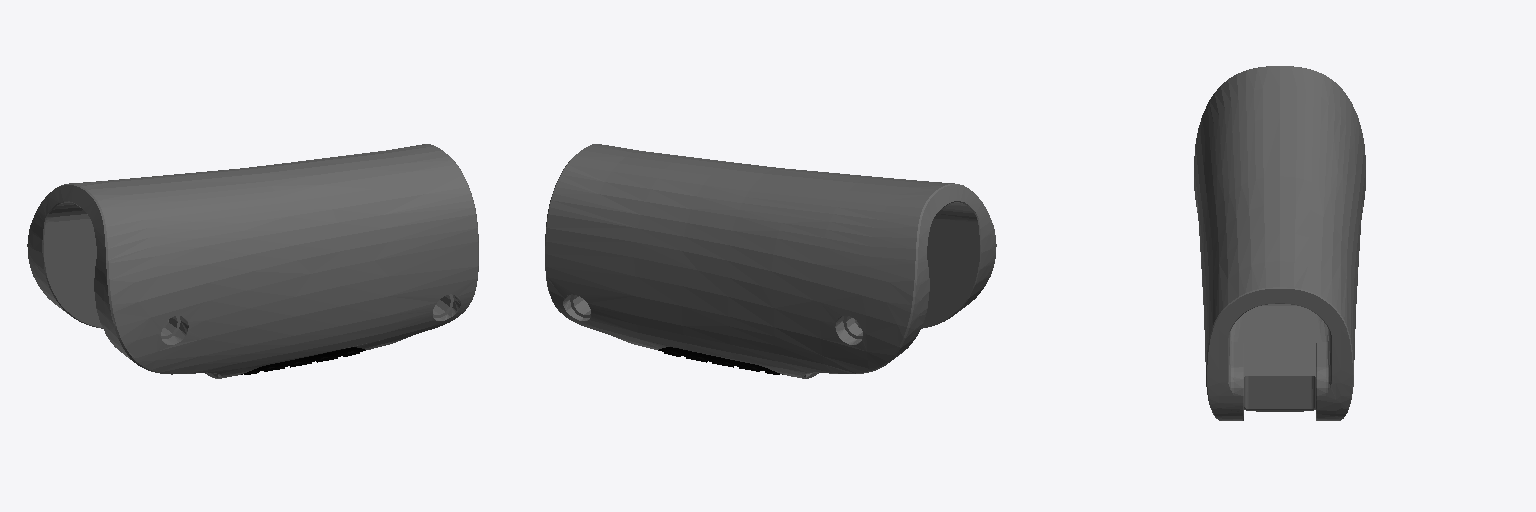
File: L_pinky_proximal_link.obj
3 views of the same model, side by side, from view 1: azimuth 30°, elevation 25°; view 2: azimuth 150°, elevation 25°; view 3: azimuth 270°, elevation 25° (orthographic).
Visible parts, largest first — view 1: L_pinky_proximal_link; view 2: L_pinky_proximal_link; view 3: L_pinky_proximal_link.
Part boxes in pixels (x1,y1,x2,y2): L_pinky_proximal_link: (27,144,478,378); L_pinky_proximal_link: (545,144,996,378); L_pinky_proximal_link: (1194,66,1365,420).
Size of the model in its own units: 0.0425 by 0.0233 by 0.0169.